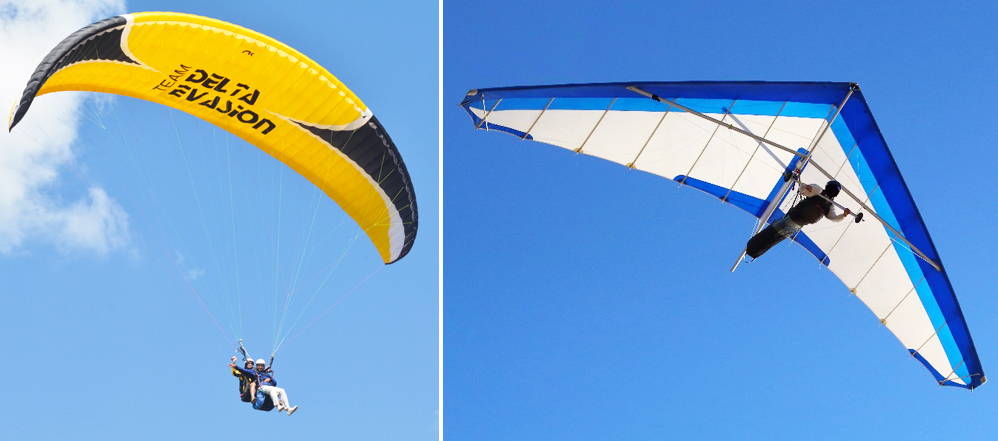Paraglider: (7, 1, 434, 282)
